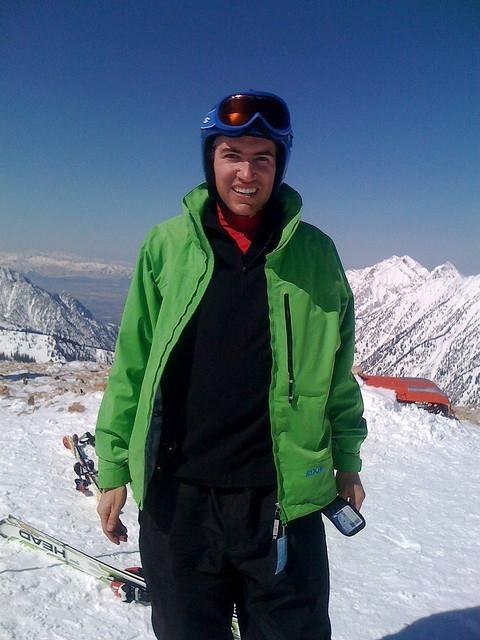car: (357, 374, 452, 418)
